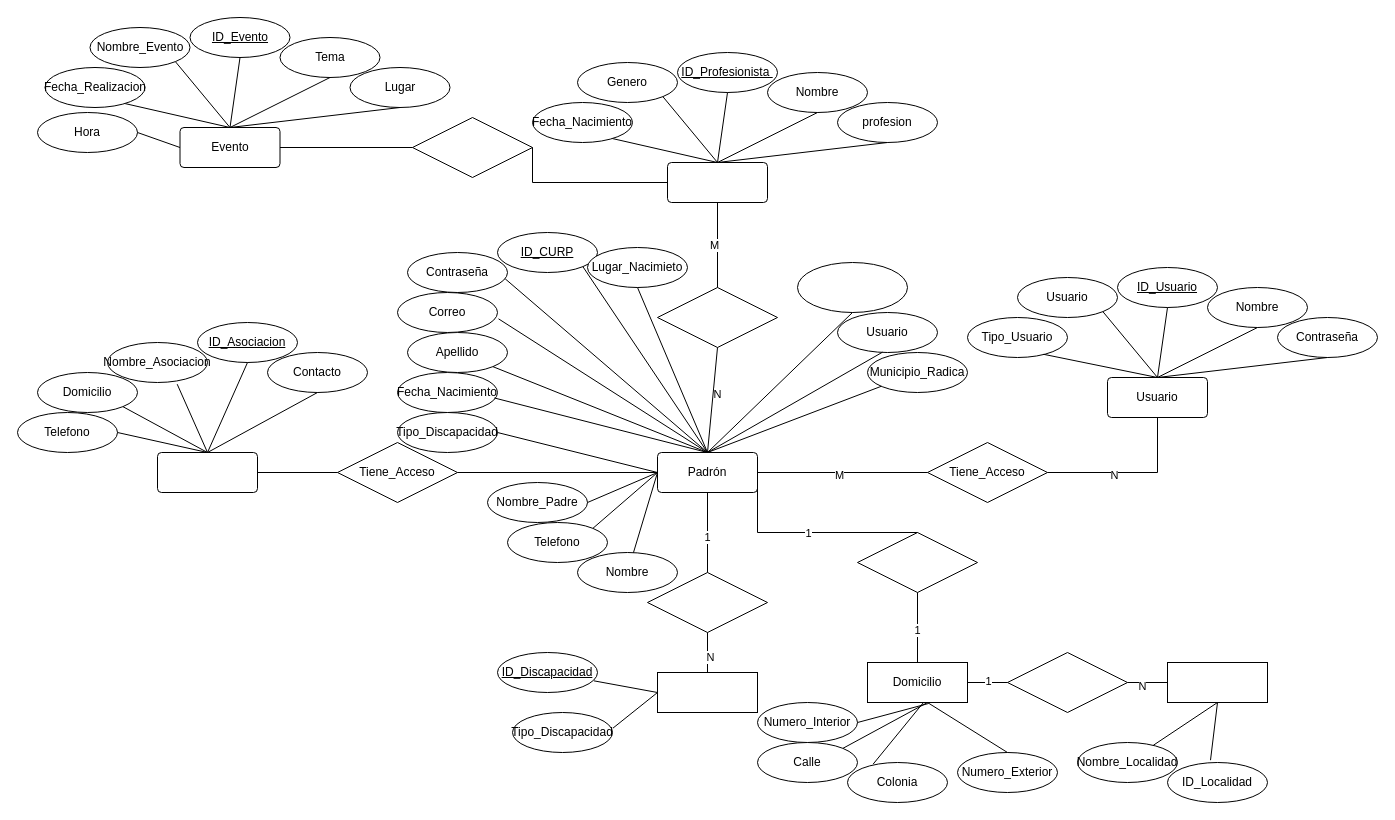
Some shapes in this 1395 by 820 pixel diagram are drawn without their labels. The shapes that lost their labels are listed below. From the top down, each one's centre as x and y in pixels, then its label:
the point at 472,147: Organiza
the point at 717,182: Independiente
the point at 852,287: Parentesco
the point at 717,317: Accesa
the point at 207,472: Asociaciones
the point at 917,562: Vive_En
the point at 707,602: Tiene
the point at 707,692: Discapacidad
the point at 1067,682: Pertenece
the point at 1217,682: Localidad
